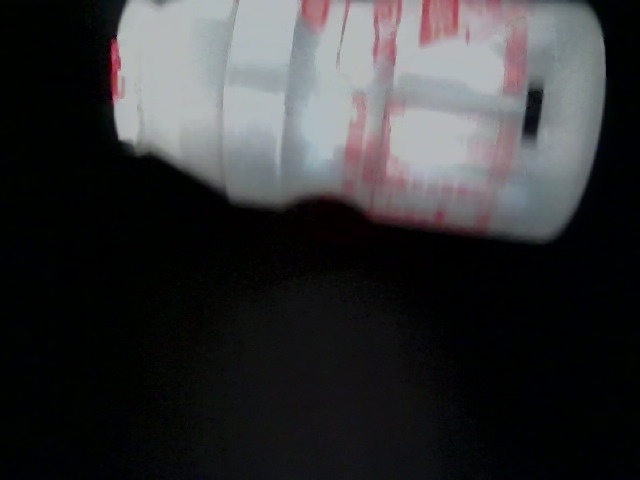CYLJ: (143, 1, 371, 179)
